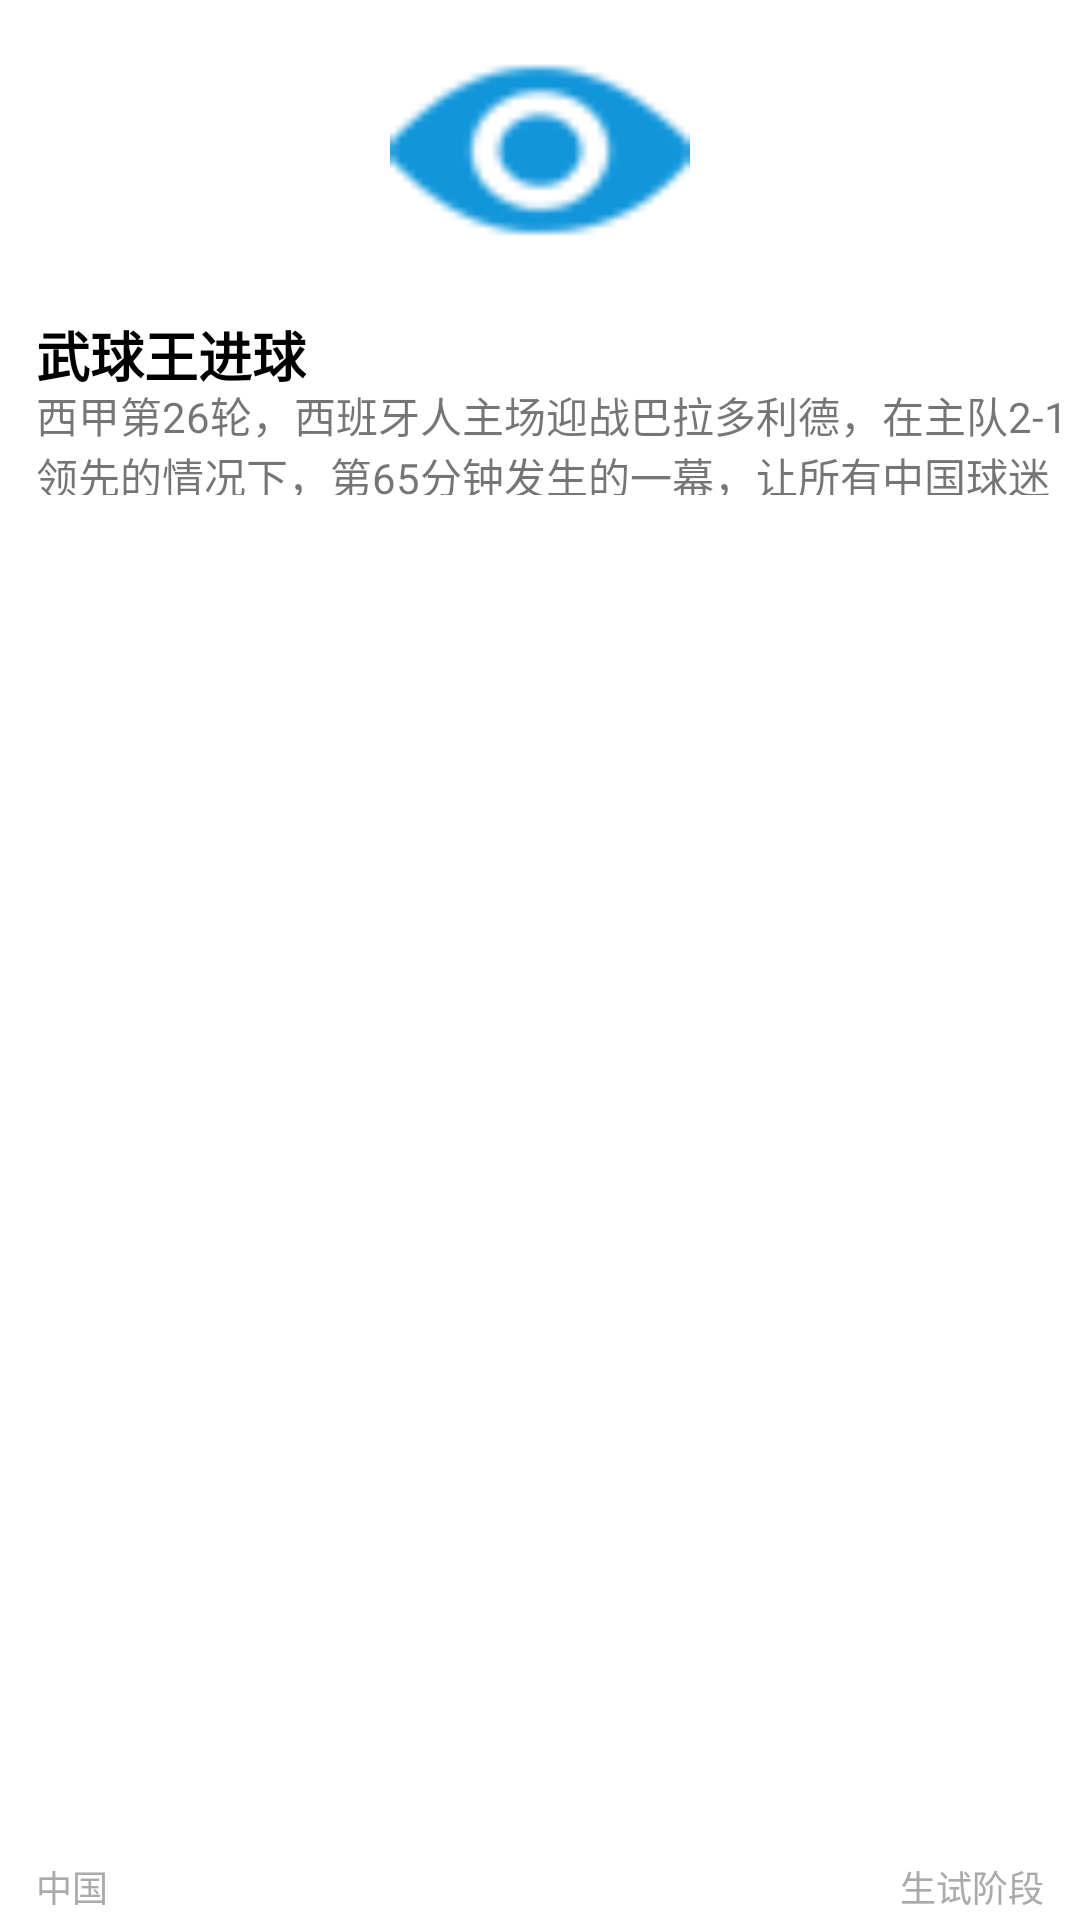

Icon bounding boxes for this 1080 x 1920 phone screenshot, format (x1, y1, x2, y2):
concern: (390, 65, 690, 235)
